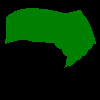mutande: (4, 8, 96, 68)
